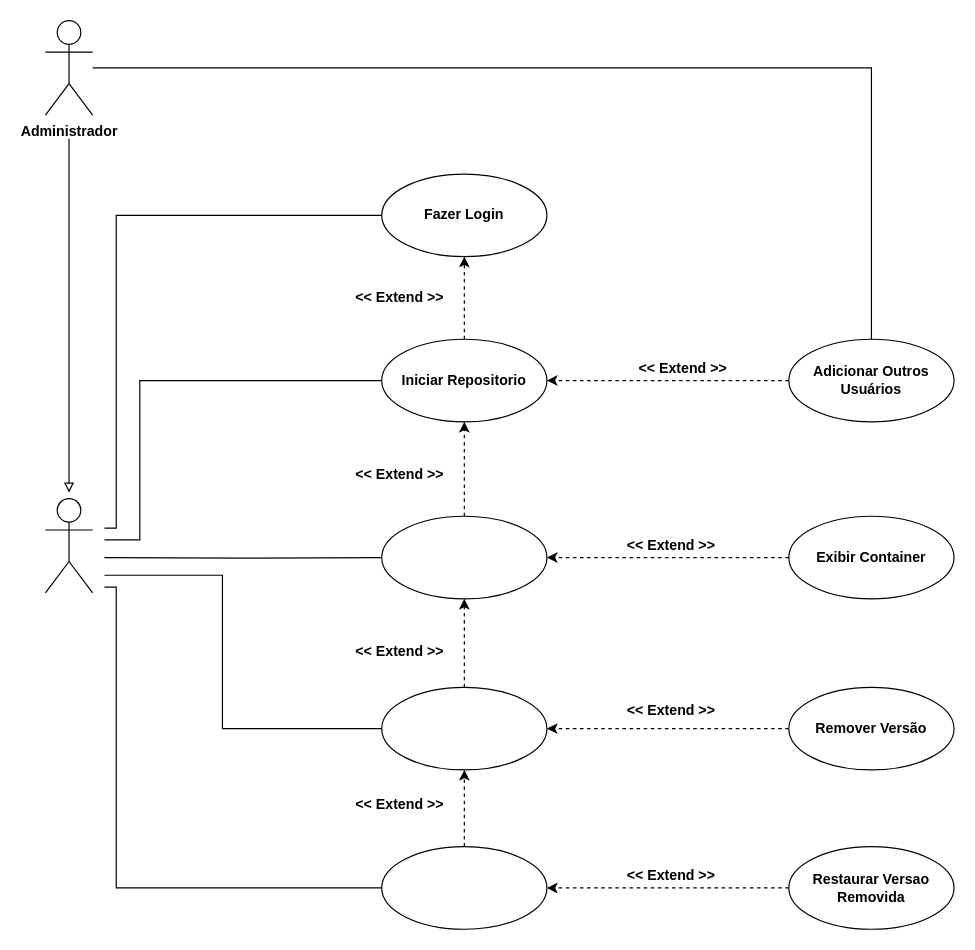
The diagram is 975 pixels wide and 950 high, and some of its shapes have lost their labels. Here are the shapes that lost their labels. From the top down, the centre of each, then its label:
At point 68,545: "Usuário".
At point 464,557: "Adicionar ao Container".
At point 464,728: "Criar Nova Versão".
At point 464,887: "Backup Versao Removida".
